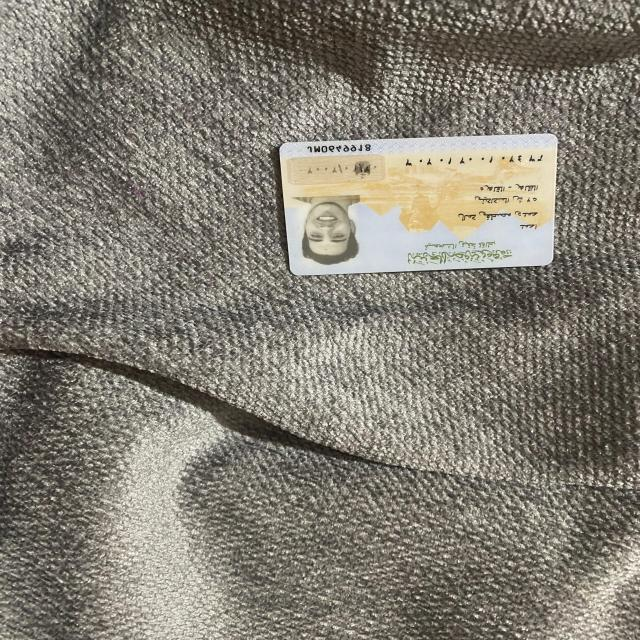id_card: (272, 122, 564, 280)
